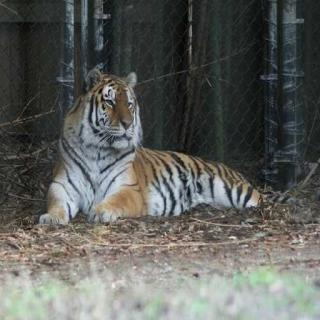Tiger: (30, 64, 269, 232)
